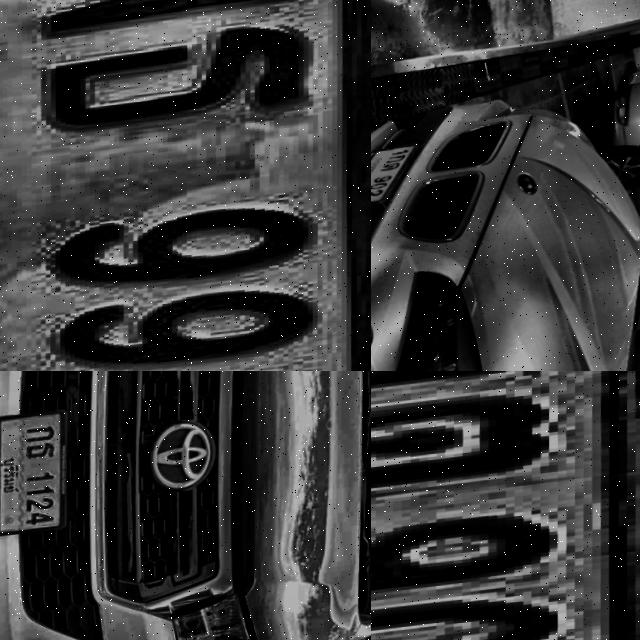license-plate: (0, 0, 371, 371), (371, 371, 640, 640), (0, 408, 79, 539), (371, 145, 421, 213)
